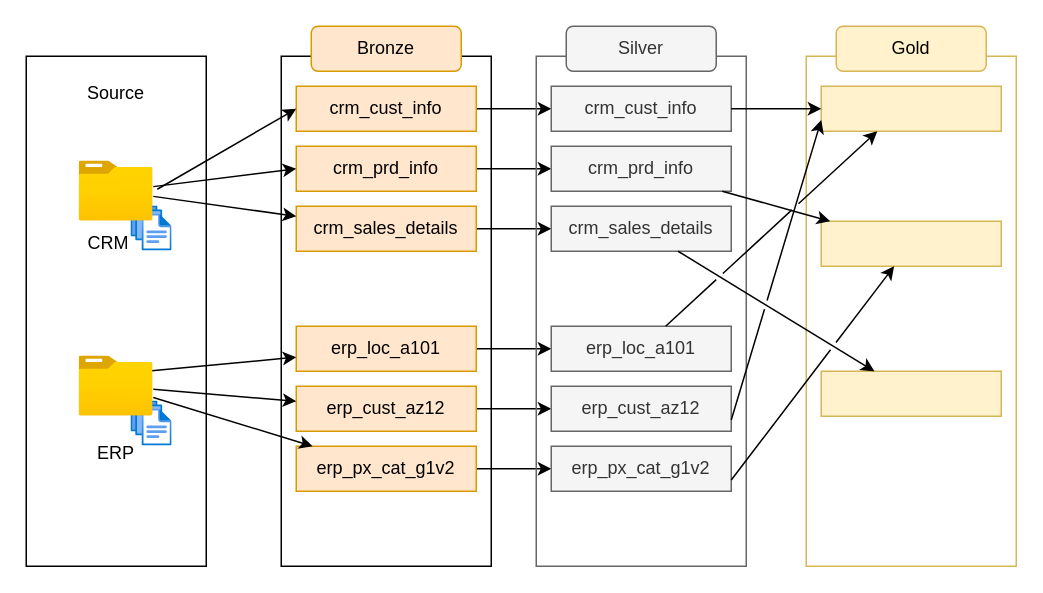
This 1043x593 diagram has some shape labels left out. The centre of each missing label's shape, as x and y in pixels:
gold.dim_customers: point (910, 108)
gold.dim_products: point (910, 243)
gold.fact_sales: point (910, 393)
